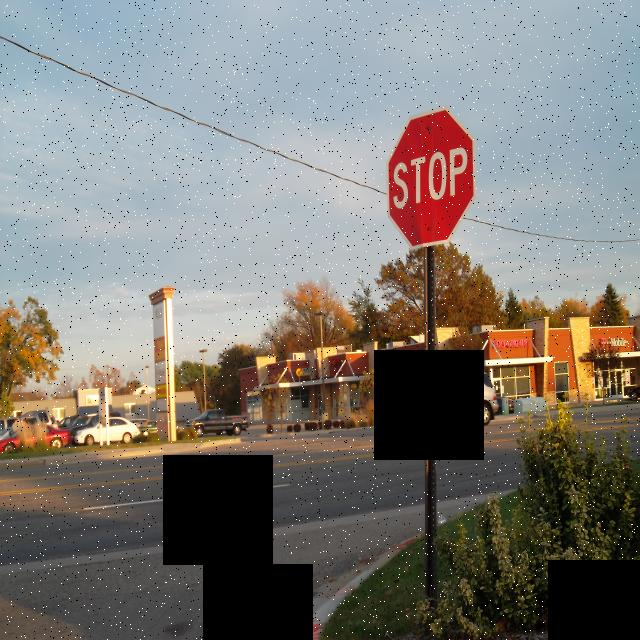stop: (388, 112, 478, 252)
